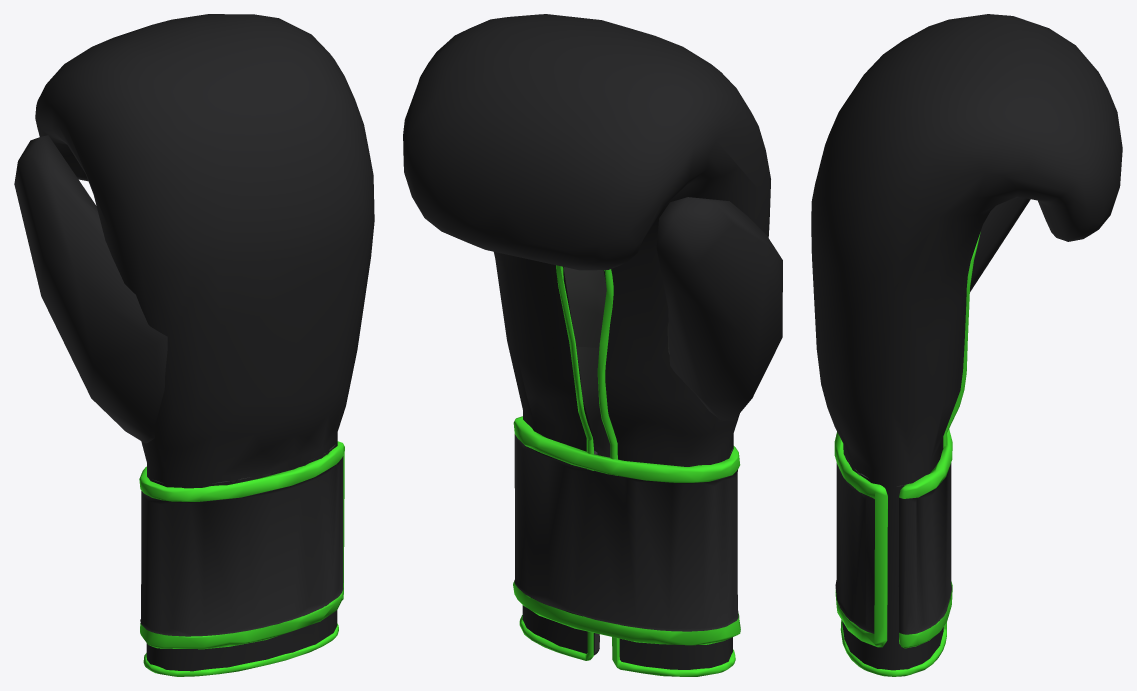
File: guantone_lo.glb
The picture shows the model from 3 angles, left to right: view 1: azimuth 30°, elevation 25°; view 2: azimuth 150°, elevation 25°; view 3: azimuth 270°, elevation 25°; orthographic projection. The views are drawn at different scales.
Parts seen in each view (by area): view 1: GUANTE_EDITABLE_2_guante_0, Tube_Mat.1_0, Cube_dedo_0, Tube_costura velcro_0, LINEA_COSTUA_costura_0; view 2: GUANTE_EDITABLE_2_guante_0, Tube_Mat.1_0, Cube_dedo_0, Tube_costura velcro_0, LINEA_COSTUA_costura_0, partye_de_adentro_parte de adentro_1 (×2); view 3: GUANTE_EDITABLE_2_guante_0, Tube_Mat.1_0, Tube_costura velcro_0, Cube_dedo_0, LINEA_COSTUA_costura_0.
Boxes of the visible parts, x1,y1,x2,y2 form: GUANTE_EDITABLE_2_guante_0: (35, 14, 374, 671); Tube_Mat.1_0: (140, 456, 343, 636); Cube_dedo_0: (14, 135, 167, 443); Tube_costura velcro_0: (139, 441, 344, 649); LINEA_COSTUA_costura_0: (143, 623, 338, 676); GUANTE_EDITABLE_2_guante_0: (403, 14, 770, 669); Tube_Mat.1_0: (514, 434, 738, 631); Cube_dedo_0: (656, 197, 782, 420); Tube_costura velcro_0: (513, 416, 740, 645); LINEA_COSTUA_costura_0: (519, 265, 735, 676); partye_de_adentro_parte de adentro_1 (×2): (563, 267, 669, 457); GUANTE_EDITABLE_2_guante_0: (811, 14, 1122, 670); Tube_Mat.1_0: (835, 463, 951, 634); Tube_costura velcro_0: (834, 429, 952, 648); Cube_dedo_0: (970, 197, 1030, 291); LINEA_COSTUA_costura_0: (840, 232, 980, 676).
Size of the model in its own units: 2.11 by 4 by 1.92.
